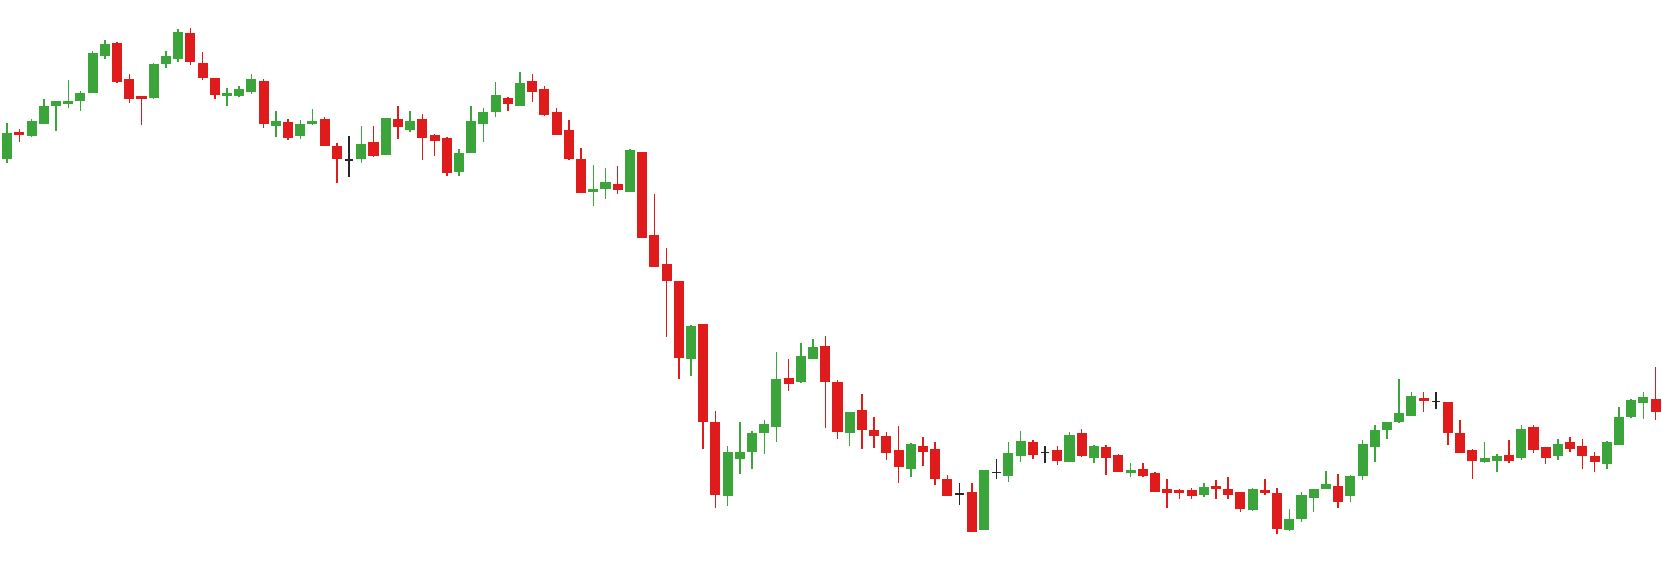sell: (94, 22, 198, 88)
